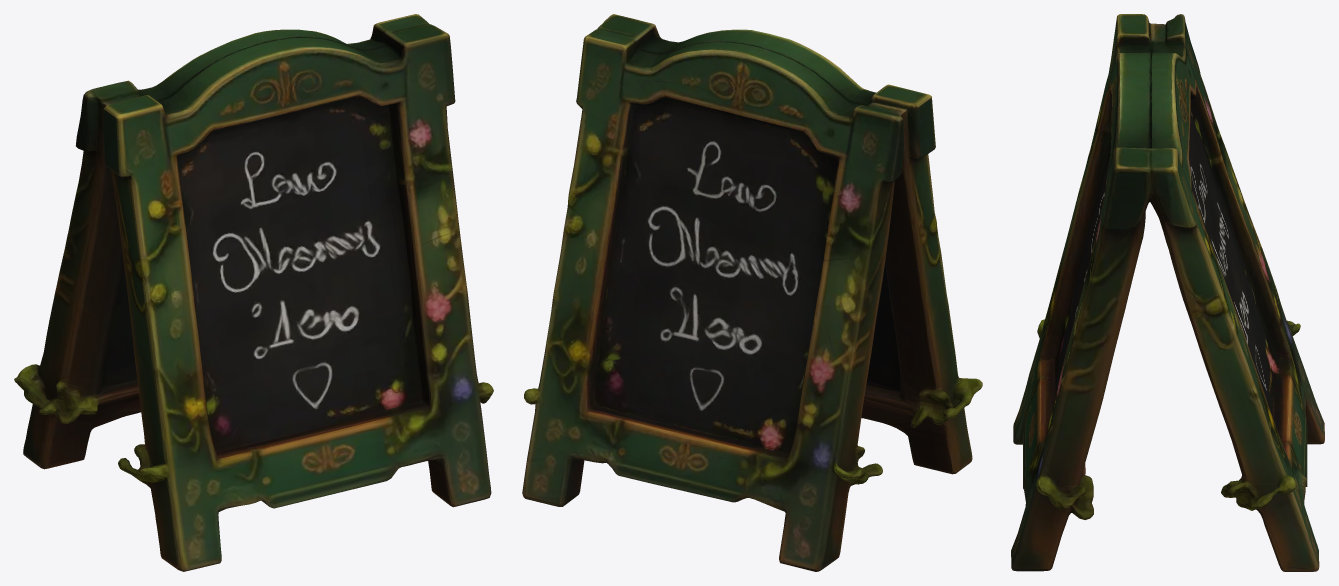
3 renders of one model, left to right at view 1: azimuth 30°, elevation 25°; view 2: azimuth 150°, elevation 25°; view 3: azimuth 270°, elevation 25°, orthographic. The views are drawn at different scales.
Visible parts, largest first — view 1: world; view 2: world; view 3: world.
Part boxes in pixels (x1,y1,x2,y2): world: [14, 14, 493, 571]; world: [522, 14, 982, 571]; world: [1011, 14, 1324, 571].
Size of the model in its own units: 0.8499 by 1 by 0.6625.
1 material, 1 textured.
